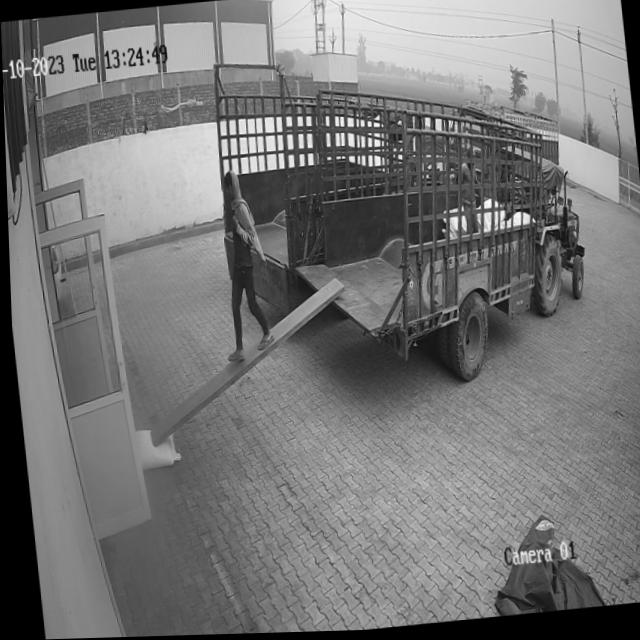sack: (129, 426, 177, 472)
